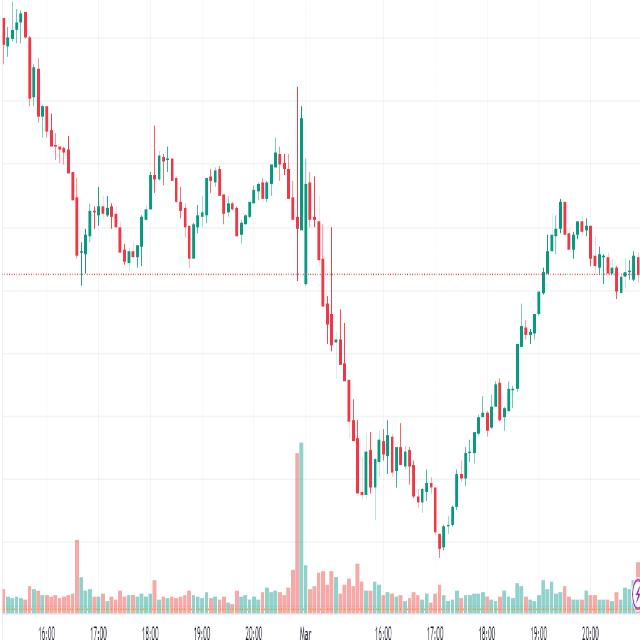Channel-down: (548, 167, 639, 327)
Channel-up: (421, 173, 588, 585)
rectangle: (144, 134, 296, 265)
